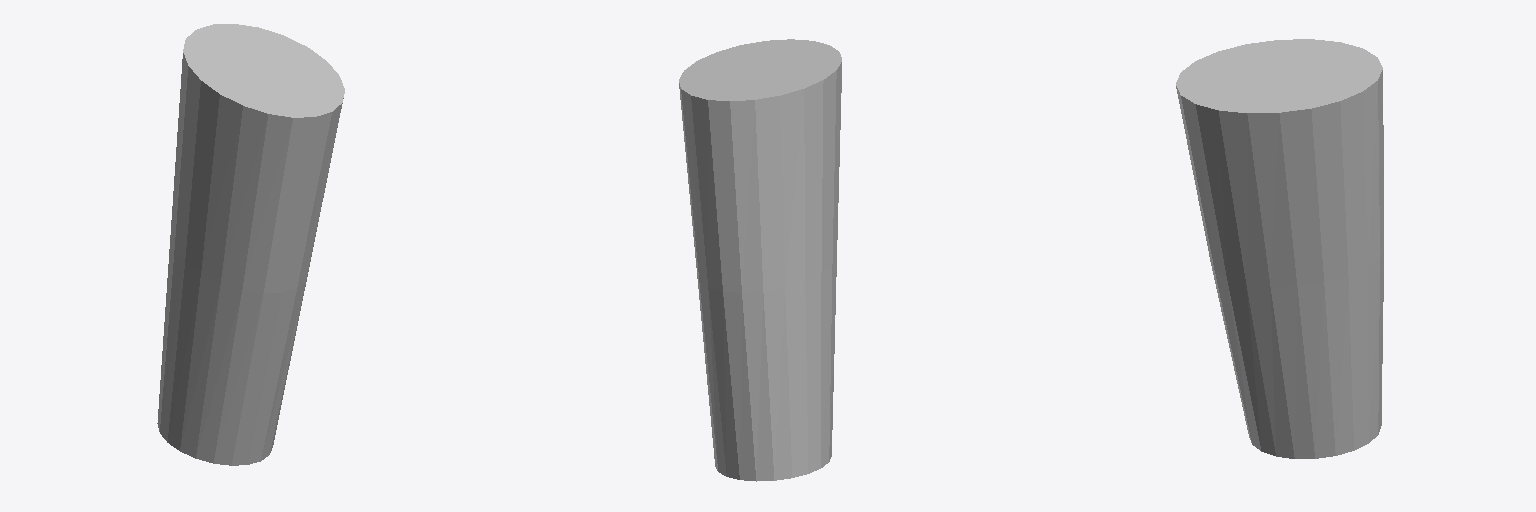
The model's file is upfoot.obj.
3 renders of one model, left to right at view 1: azimuth 30°, elevation 25°; view 2: azimuth 150°, elevation 25°; view 3: azimuth 270°, elevation 25°, orthographic.
Parts seen in each view (by area): view 1: superman:pCylinder1; view 2: superman:pCylinder1; view 3: superman:pCylinder1.
Part boxes in pixels (left/top/right/bottom): superman:pCylinder1: left=157, top=24, right=344, bottom=465; superman:pCylinder1: left=679, top=39, right=841, bottom=481; superman:pCylinder1: left=1176, top=39, right=1383, bottom=458.
Size of the model in its own units: 1.34 by 3.51 by 1.71.